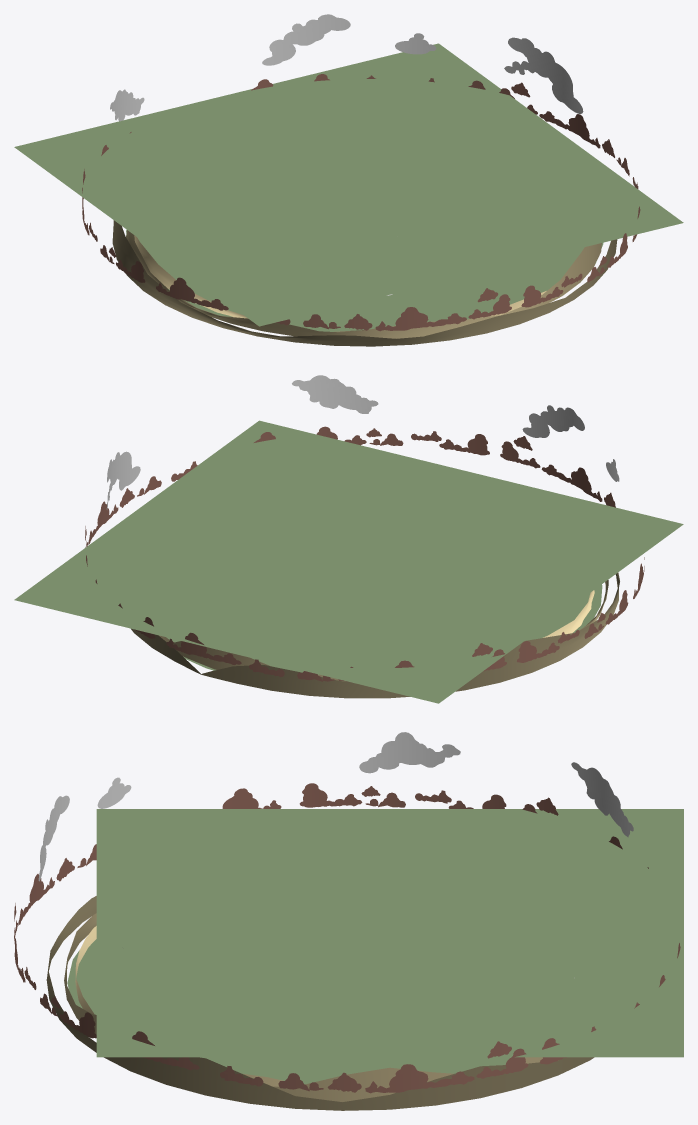
The model's file is Gazeebo.glb.
3 renders of one model, top to bottom at view 1: azimuth 30°, elevation 25°; view 2: azimuth 150°, elevation 25°; view 3: azimuth 270°, elevation 25°, orthographic. The views are drawn at different scales.
Parts seen in each view (by area): view 1: IntroPlaneMask, Ground, CloudsLower, Mountains03, CloudsUpper, Mountains02, Mountains01; view 2: IntroPlaneMask, CloudsLower, Mountains03, CloudsUpper, Ground, Mountains02, Mountains01; view 3: IntroPlaneMask, Mountains03, CloudsLower, Ground, CloudsUpper, Mountains02, Mountains01.
Part boxes in pixels (x1,y1,x2,y2): IntroPlaneMask: (14, 43, 683, 326); Ground: (126, 230, 603, 331); CloudsLower: (82, 74, 640, 331); Mountains03: (112, 220, 617, 346); CloudsUpper: (110, 14, 583, 121); Mountains02: (126, 230, 601, 338); Mountains01: (134, 235, 546, 332); IntroPlaneMask: (14, 420, 683, 703); CloudsLower: (85, 426, 644, 682); Mountains03: (131, 572, 619, 698); CloudsUpper: (106, 375, 619, 509); Ground: (166, 584, 602, 674); Mountains02: (173, 580, 608, 681); Mountains01: (159, 590, 594, 642); IntroPlaneMask: (96, 809, 683, 1057); Mountains03: (46, 896, 594, 1110); CloudsLower: (14, 783, 680, 1093); Ground: (67, 939, 510, 1084); CloudsUpper: (38, 732, 633, 978); Mountains02: (64, 913, 542, 1101); Mountains01: (75, 926, 283, 1086).
Size of the model in its own units: 954 by 218 by 951.
